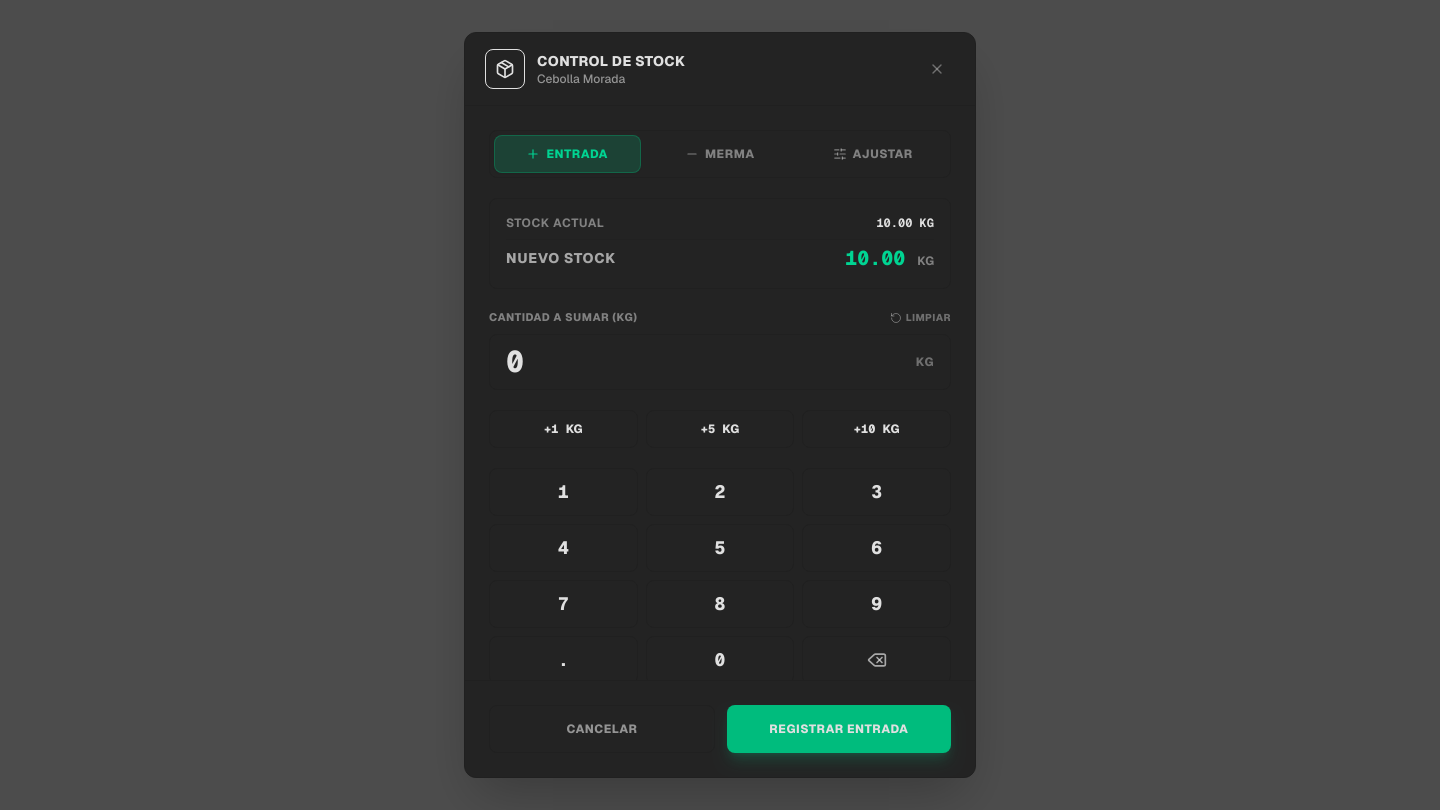
Scenario: InventoryActionDrawer Component › should handle quick increment presets (+1, +5, +10) with decimals
The image size is (1440, 810).
Check: the text with test id "keypad-display" reads "0", box left=506, top=342, right=526, bottom=381
# Add .5 first
Click the button ".".
click(563, 660)  # box left=489, top=636, right=638, bottom=684
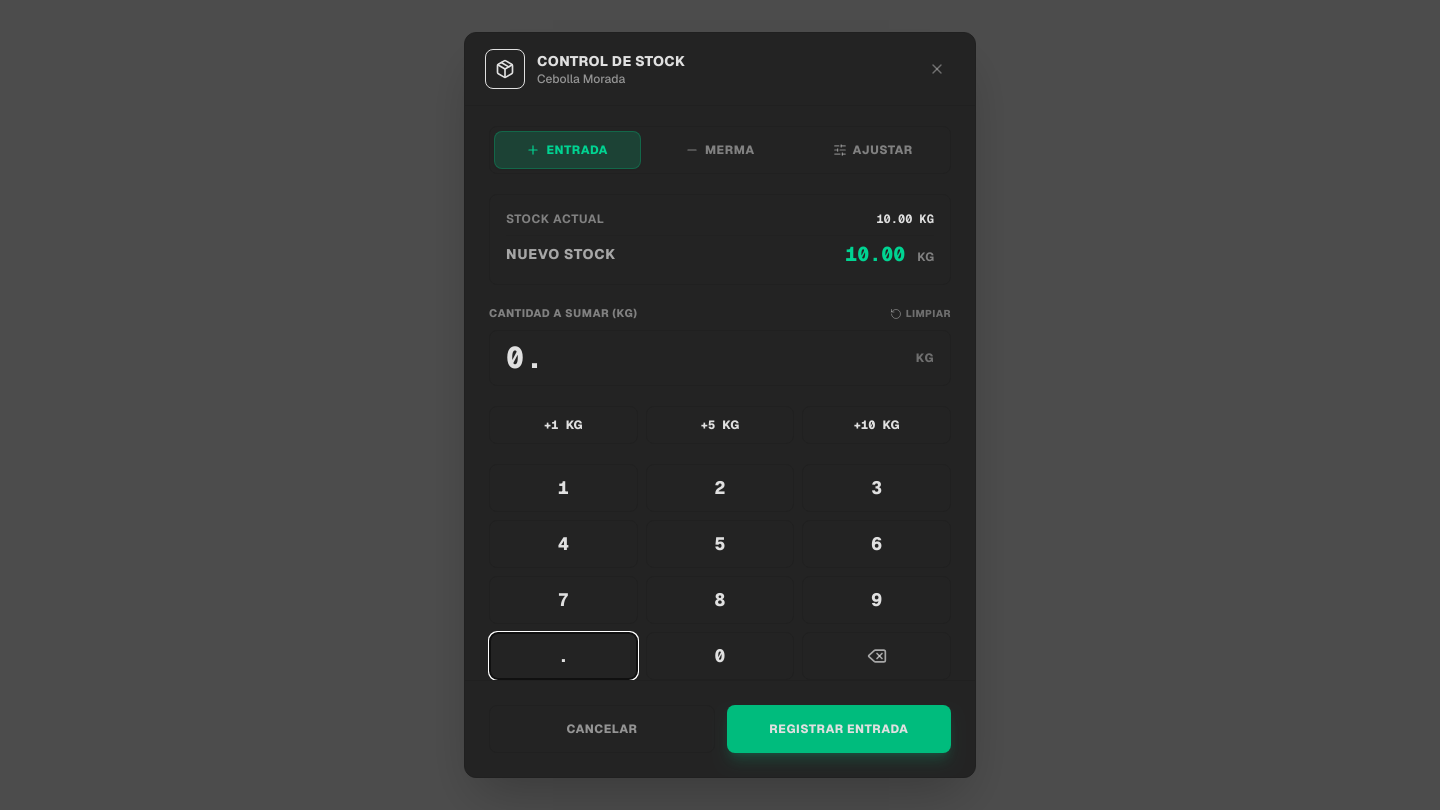
Click the button "5".
click(720, 544)  # box left=646, top=520, right=794, bottom=568
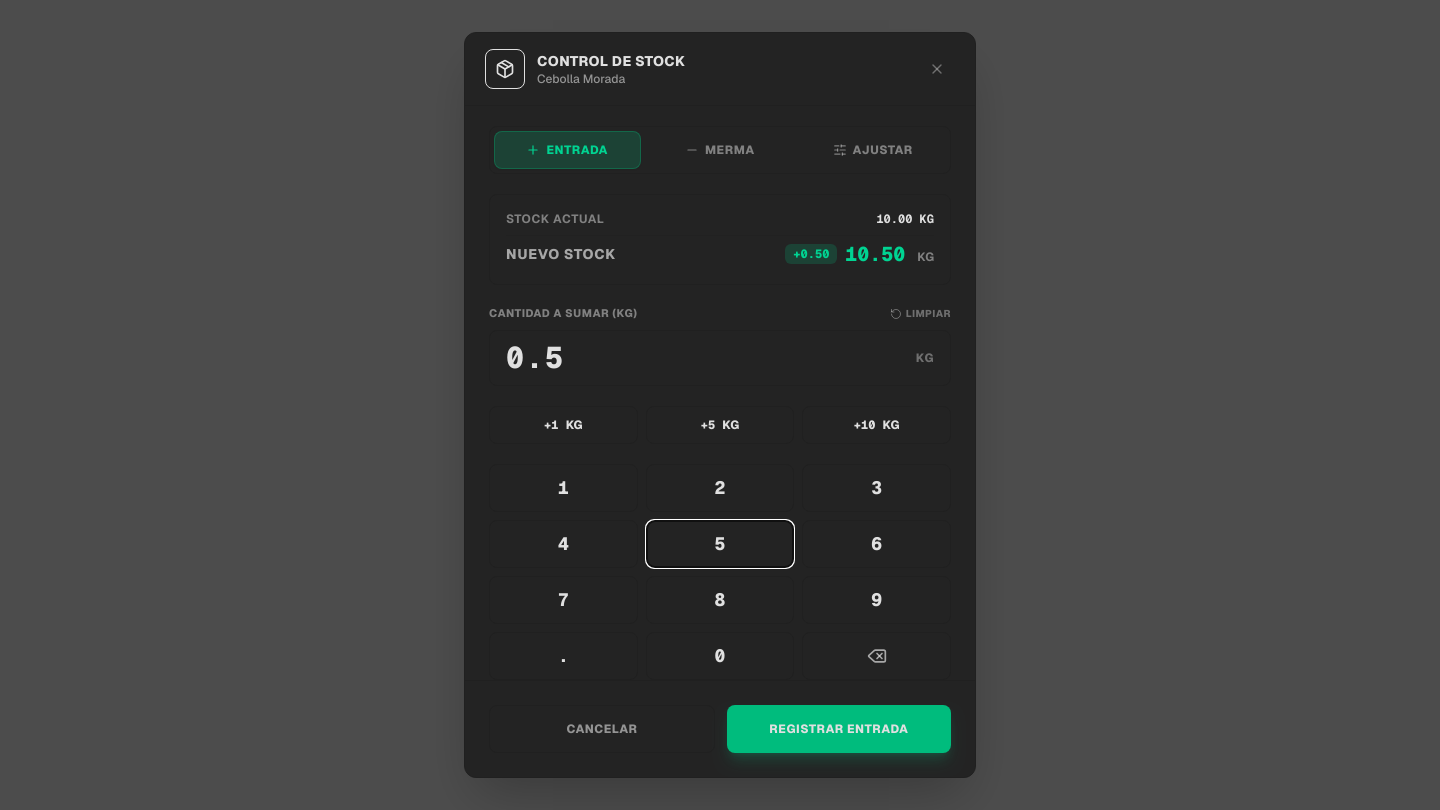
Check: the text with test id "keypad-display" reads "0.5", box left=506, top=338, right=564, bottom=377
Click the button "+5 KG".
click(720, 425)  # box left=646, top=406, right=794, bottom=444
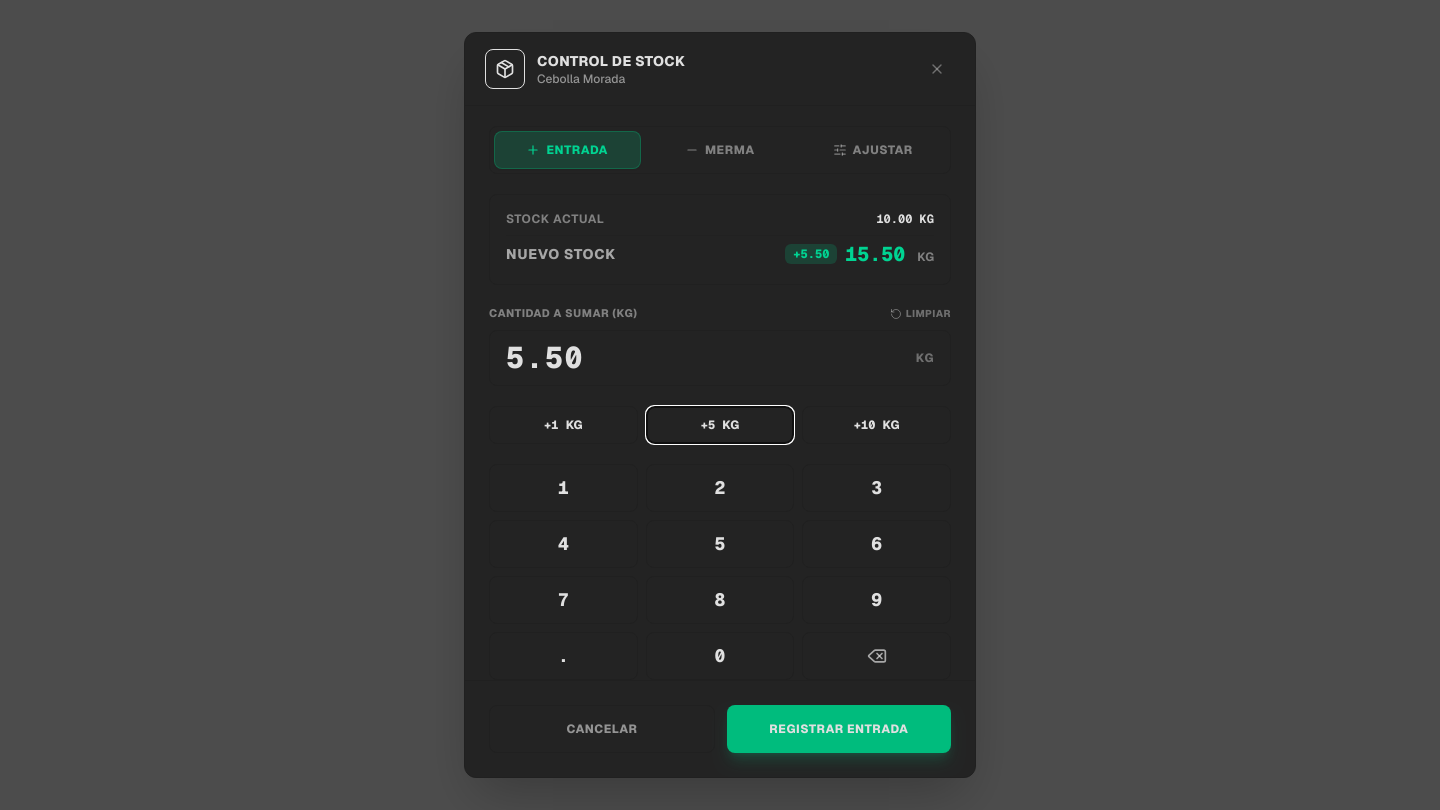
Check: the text with test id "keypad-display" reads "5.50", box left=506, top=338, right=584, bottom=377
Click the button "+10 KG".
click(877, 425)  # box left=802, top=406, right=951, bottom=444
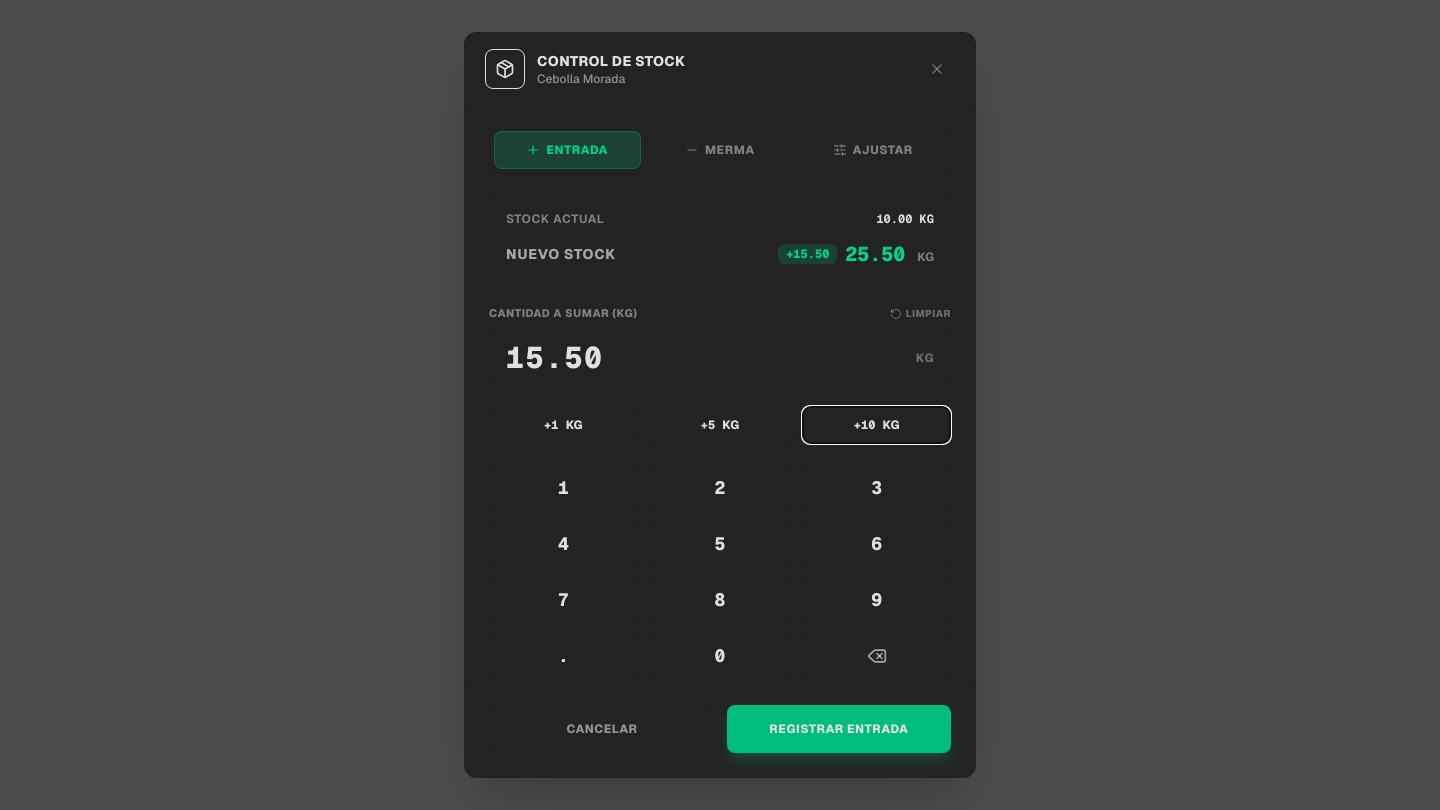
Check: the text with test id "keypad-display" reads "15.50", box left=506, top=338, right=604, bottom=377
Click the button "+1 KG".
click(563, 425)  # box left=489, top=406, right=638, bottom=444
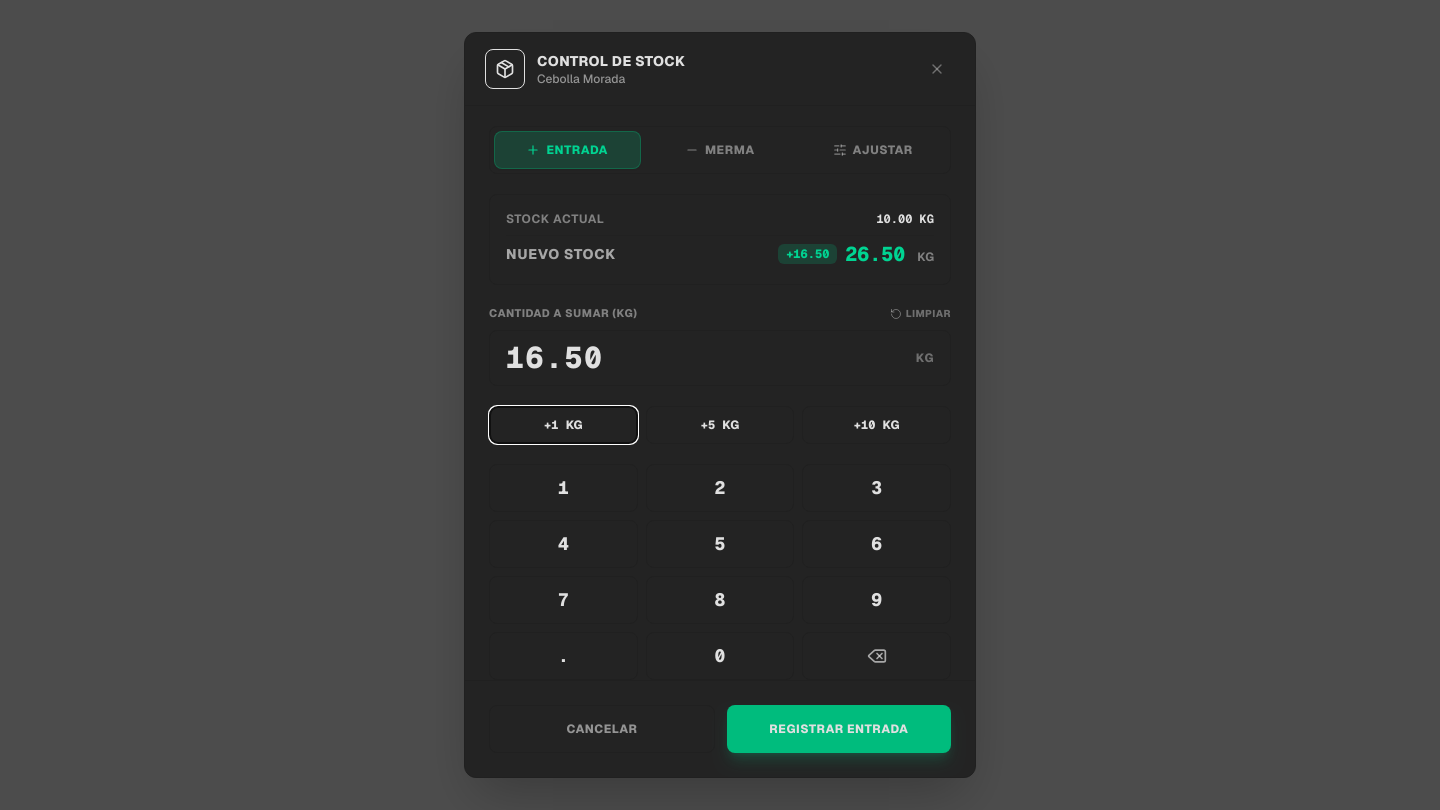
Check: the text with test id "keypad-display" reads "16.50", box left=506, top=338, right=604, bottom=377
